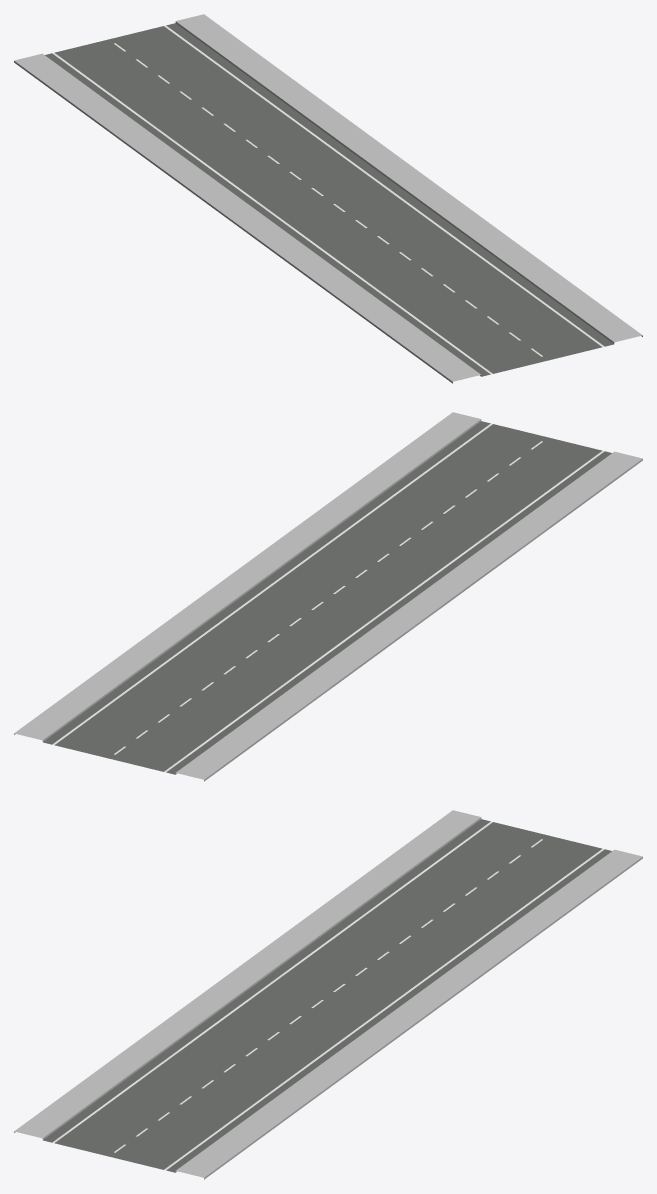
Rendered from Straight_XLong.fbx.
The picture shows the model from 3 angles, top to bottom: view 1: azimuth 30°, elevation 25°; view 2: azimuth 150°, elevation 25°; view 3: azimuth 330°, elevation 25°; orthographic projection.
Parts seen in each view (by area): view 1: Plane; view 2: Plane; view 3: Plane.
Part boxes in pixels (left/top/right/bottom): Plane: left=14, top=14, right=642, bottom=383; Plane: left=14, top=412, right=642, bottom=781; Plane: left=14, top=810, right=642, bottom=1179.
Bounding box in the file's own units: 15 × 0.15 × 60.
